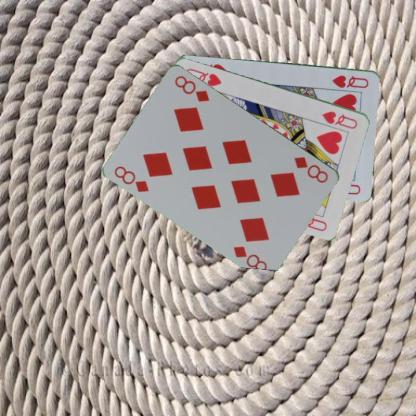8d: (292, 154, 330, 184), (112, 163, 150, 193)
Qh: (319, 108, 359, 130), (330, 72, 370, 89)
